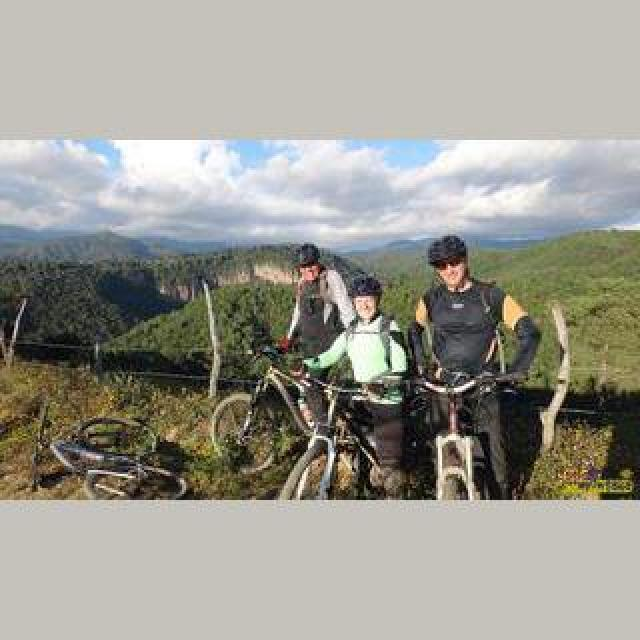MC-Bike: (408, 234, 542, 496), (300, 270, 410, 486), (280, 244, 354, 358)
Person: (270, 372, 424, 508), (30, 392, 194, 500), (410, 368, 524, 498)
